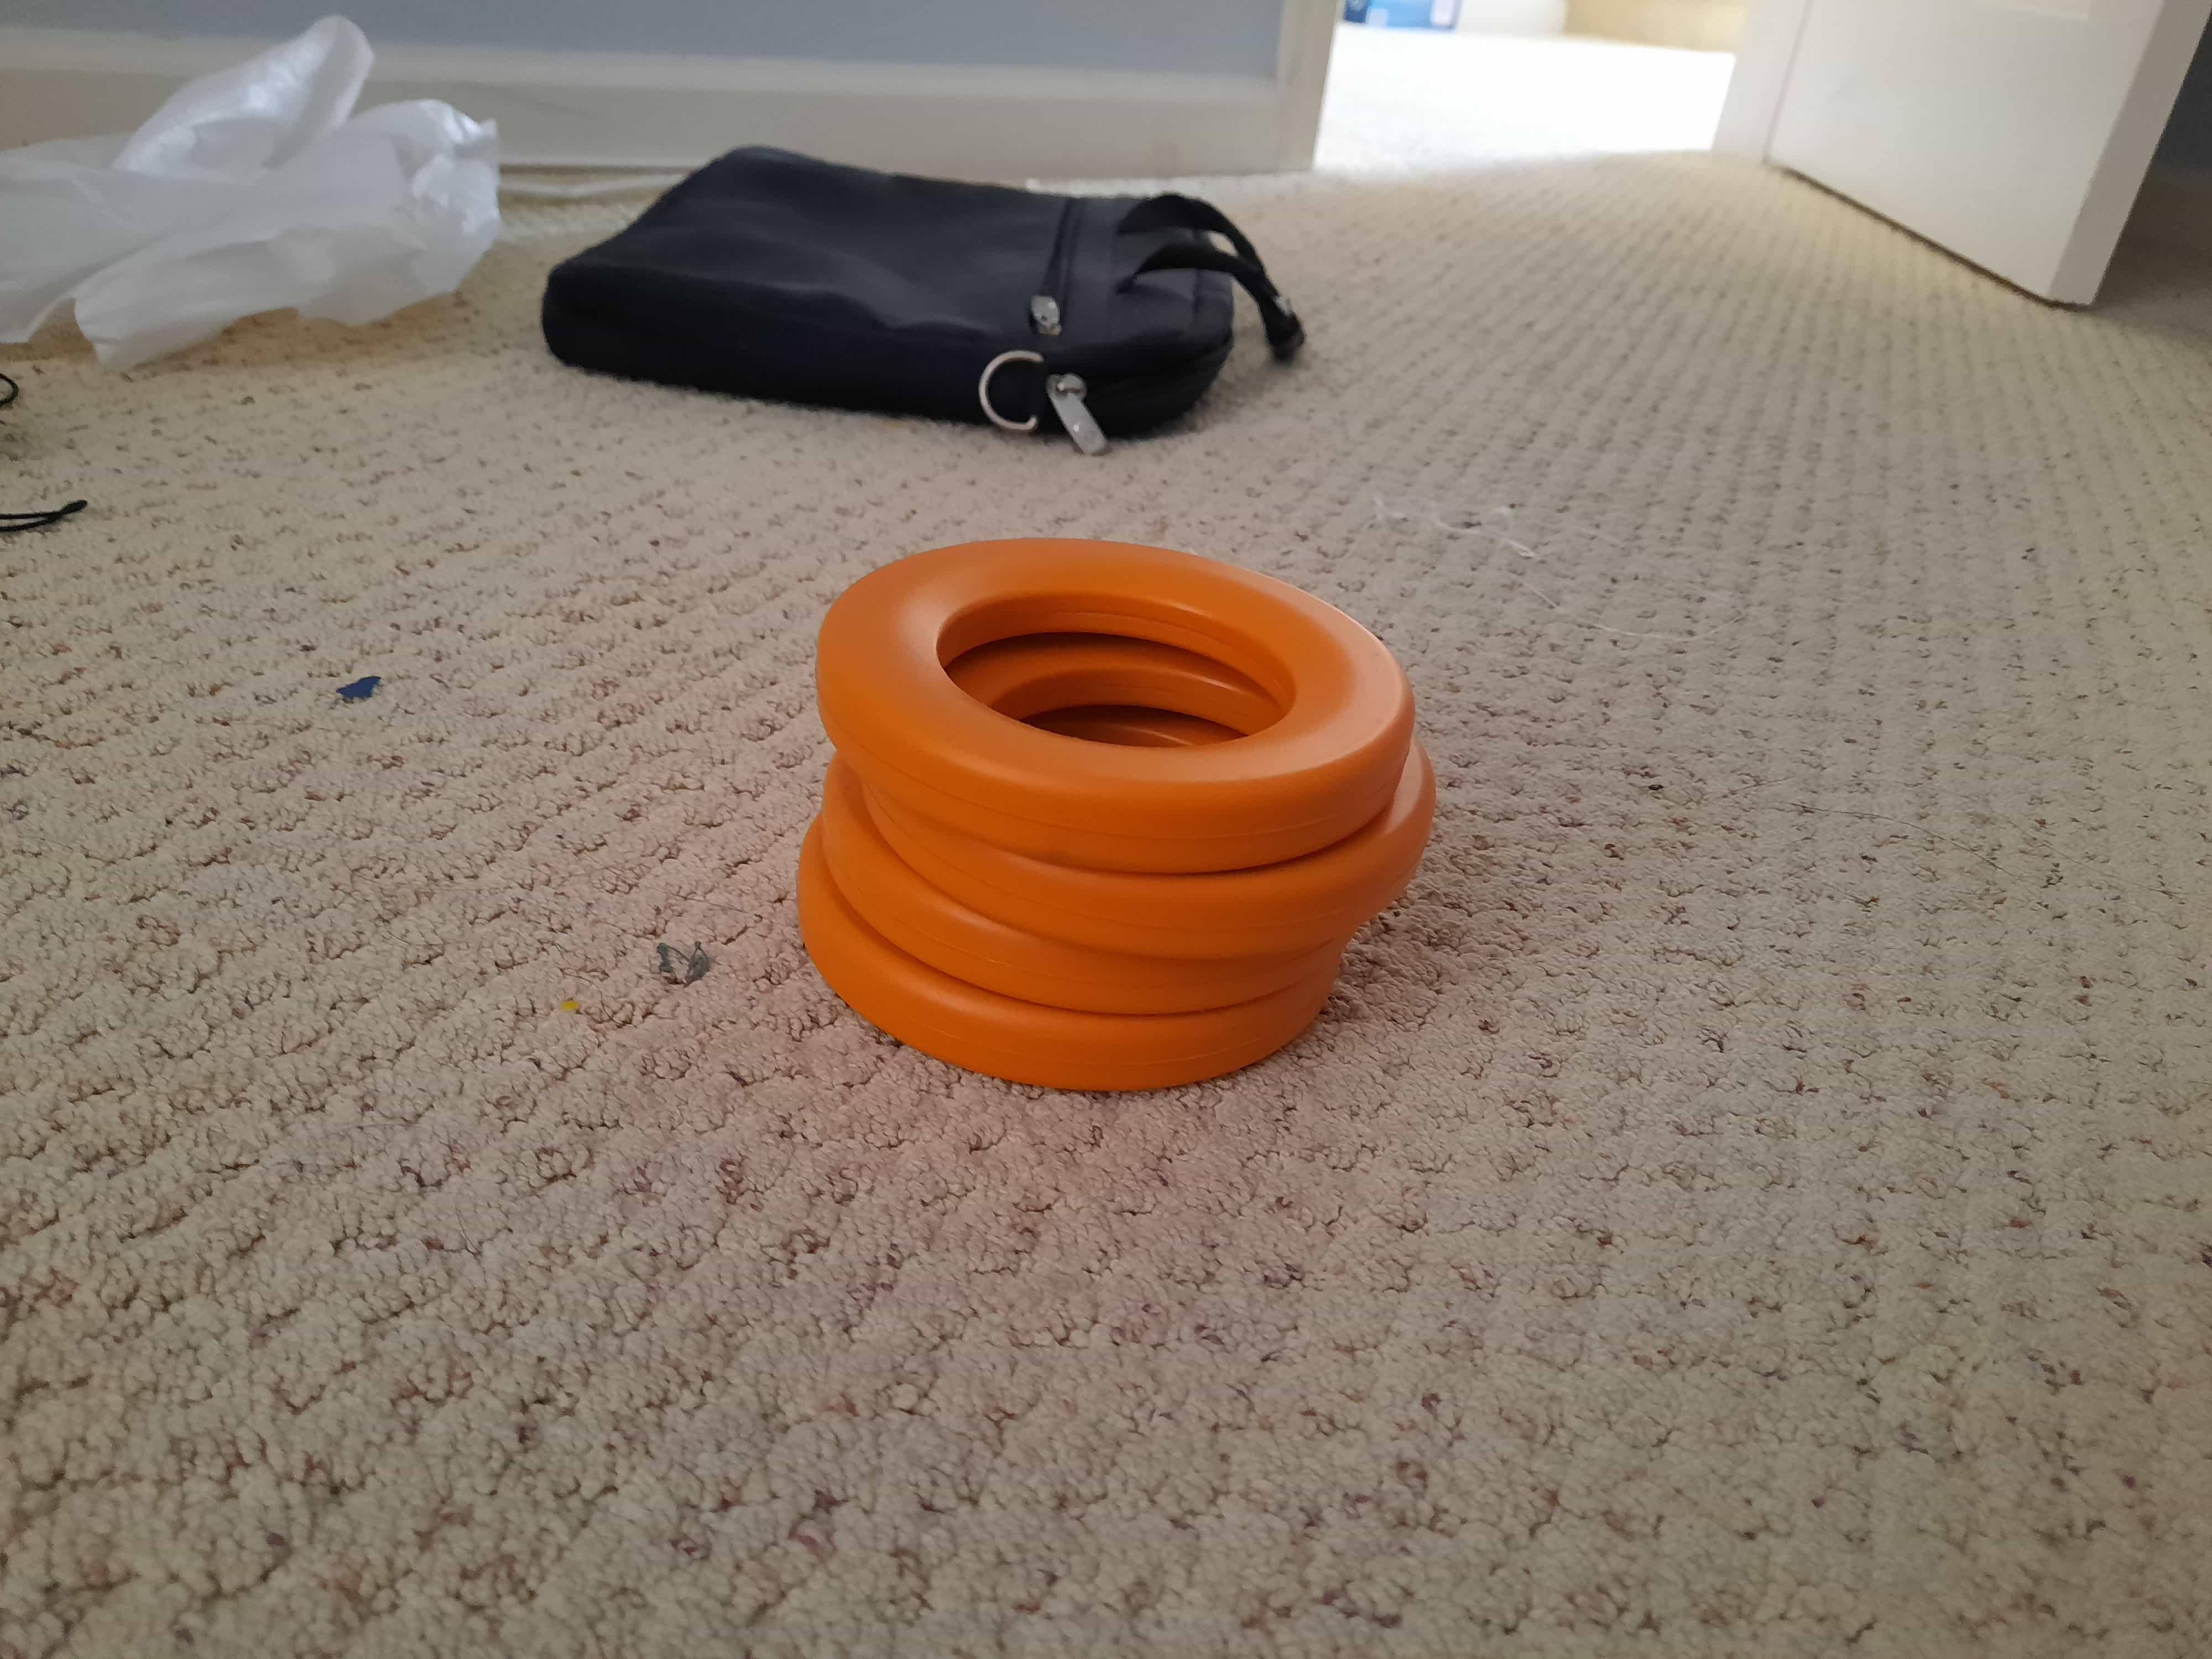FourStack: (794, 542, 1430, 1084)
